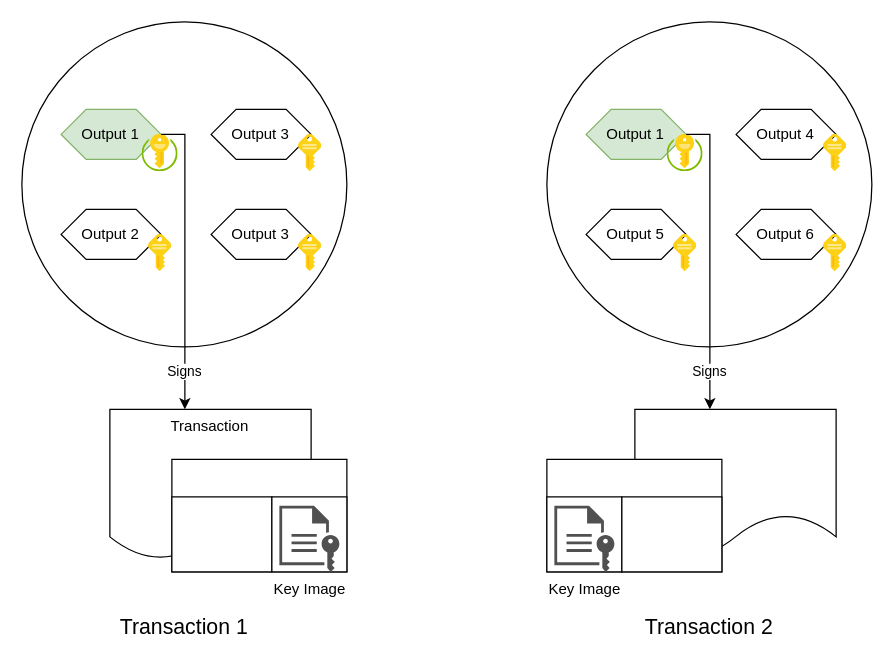
Some shapes in this 894 by 669 pixel diagram are drawn without their labels. Here are the shapes that lost their labels. From the top down, the box of each, then its label:
(634, 408, 836, 559): Transaction'
(171, 458, 347, 572): Signature
(546, 458, 722, 572): Signature'
